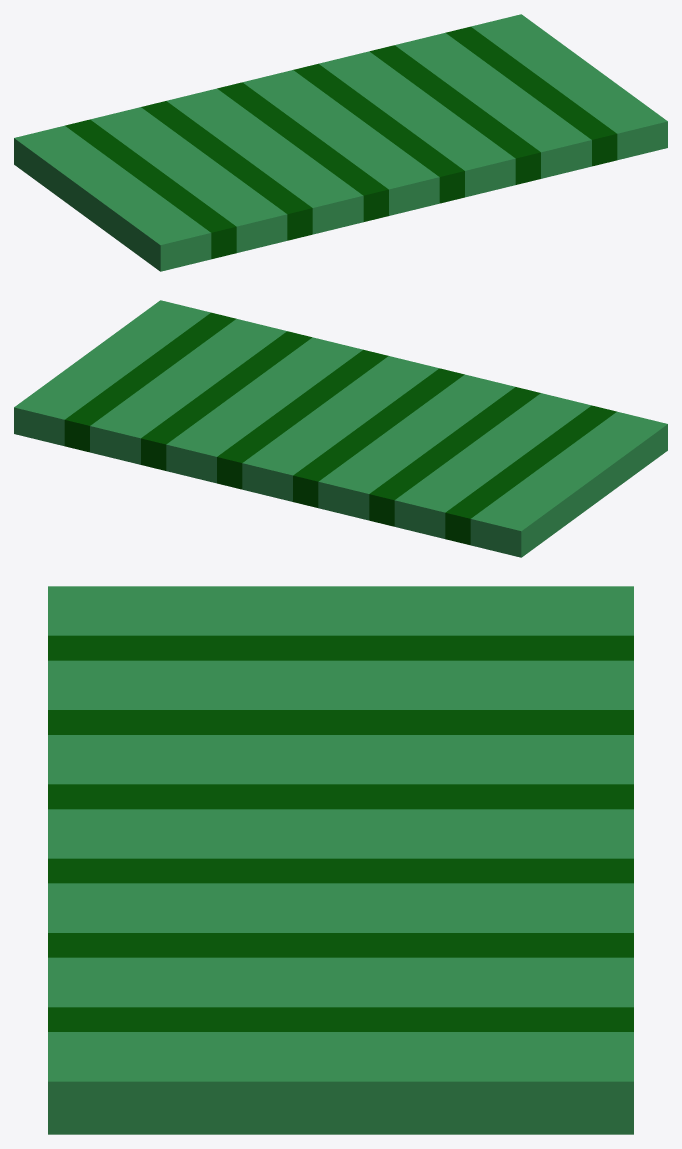
The model's file is kilim.obj.
The picture shows the model from 3 angles, top to bottom: view 1: azimuth 30°, elevation 25°; view 2: azimuth 150°, elevation 25°; view 3: azimuth 270°, elevation 25°; orthographic projection. The views are drawn at different scales.
Bounding box in the file's own units: 2 × 0.1 × 1.
Materials: 1 (1 with a texture image).
